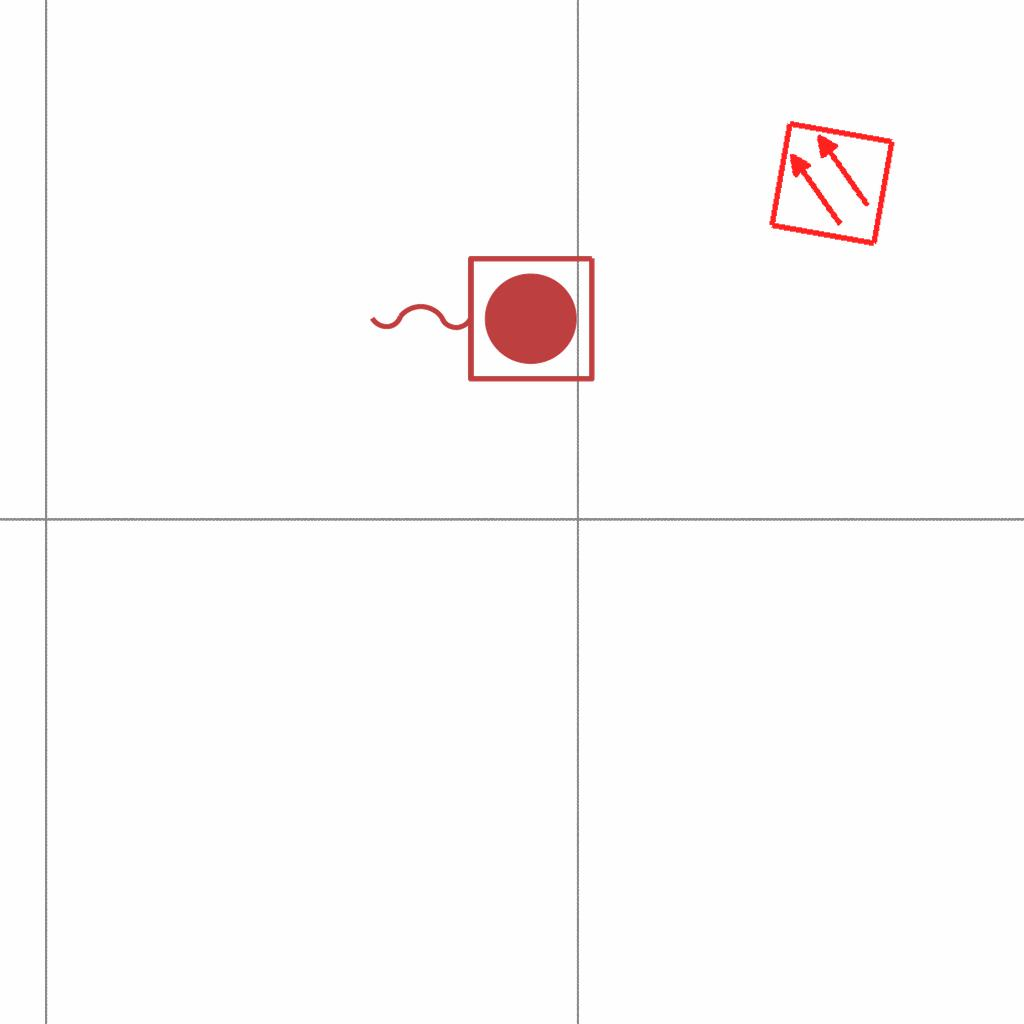RMO_Rauchmelder_optischer: (766, 118, 897, 249)
Zugtaster: (359, 245, 603, 389)
